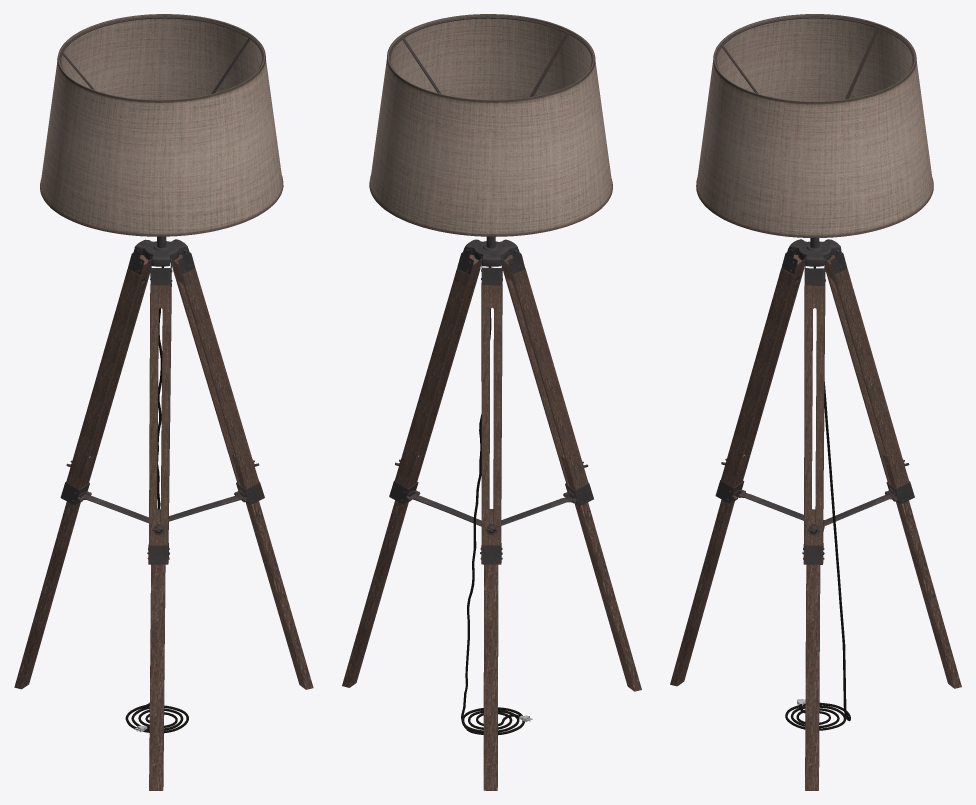
Rendered from abo-B07B51FDV8.glb.
3 views of the same model, side by side, from view 1: azimuth 30°, elevation 25°; view 2: azimuth 150°, elevation 25°; view 3: azimuth 270°, elevation 25° (orthographic).
Bounding box in the file's own units: 0.604 × 1.51 × 0.604.
1 material, 1 textured.
